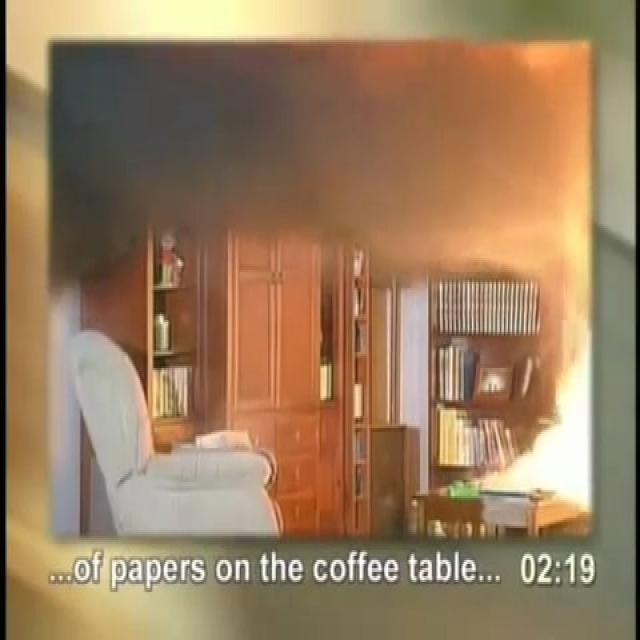Fire: (353, 40, 598, 548)
